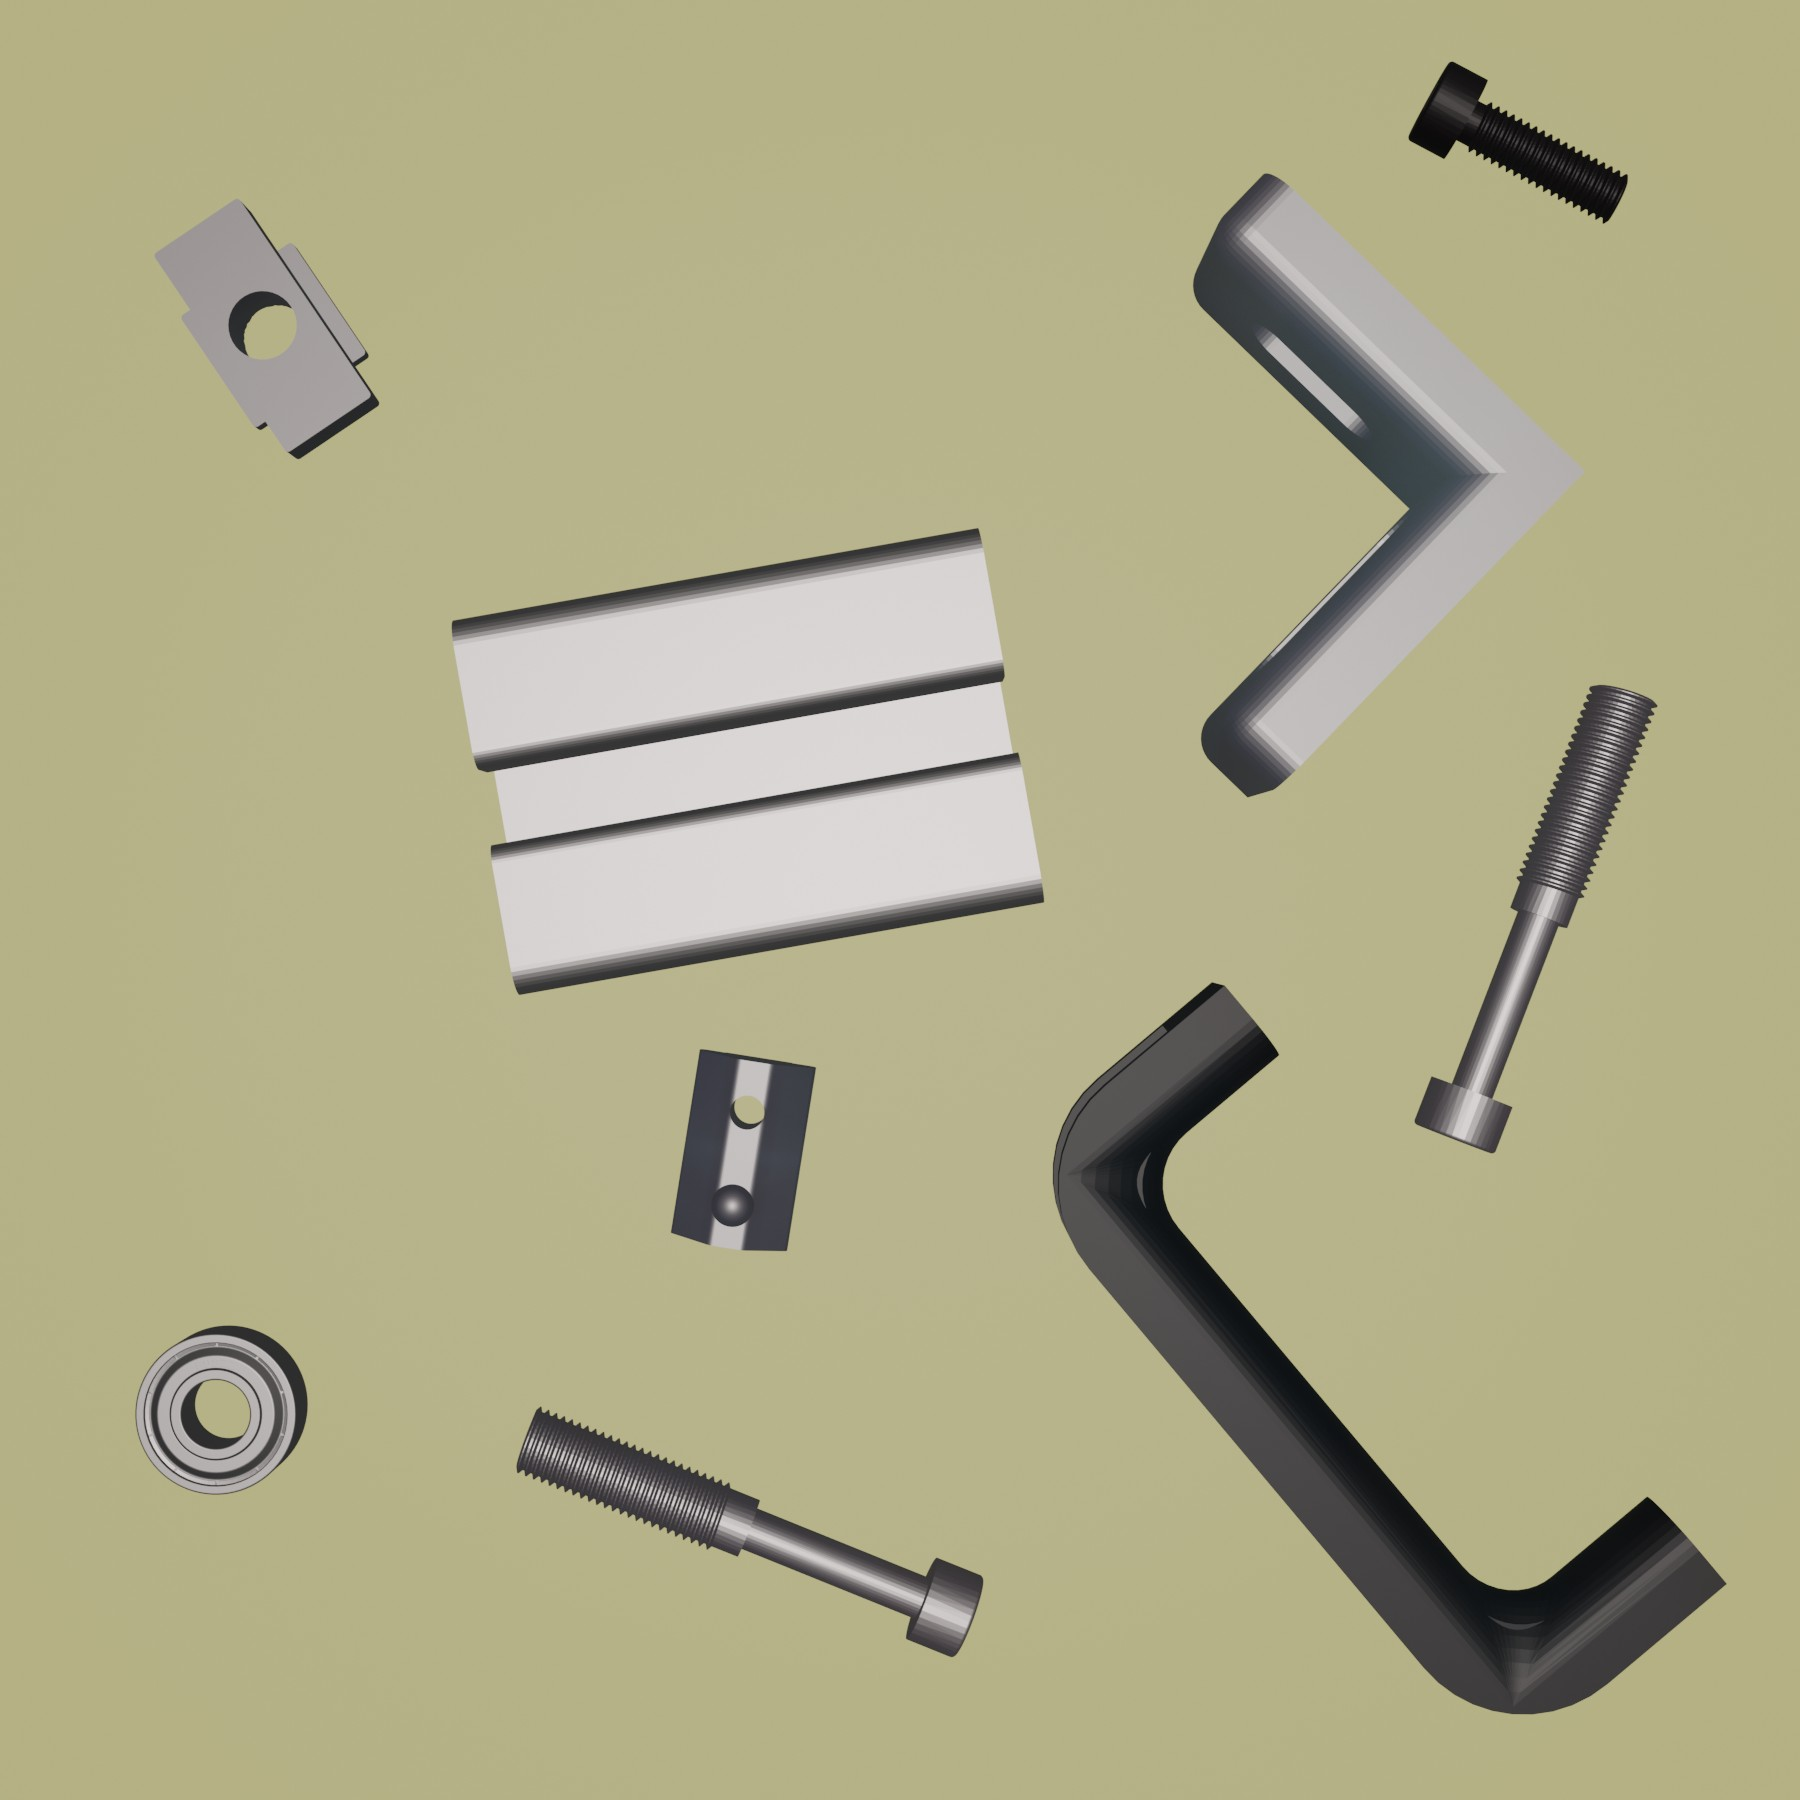Aluminium Extension: (447, 527, 1043, 997)
Ball Bearing: (135, 1324, 308, 1497)
Multiwinkel: (1190, 168, 1586, 803)
Pull Handle: (1048, 981, 1724, 1719)
Shoulder Socket Head Cap Screw: (511, 1404, 987, 1657), (1413, 682, 1658, 1159)
Socket Head Cap Screw: (1404, 58, 1632, 227)
T Nut Square: (150, 195, 381, 462)
T Spring Nut: (669, 1045, 821, 1254)
